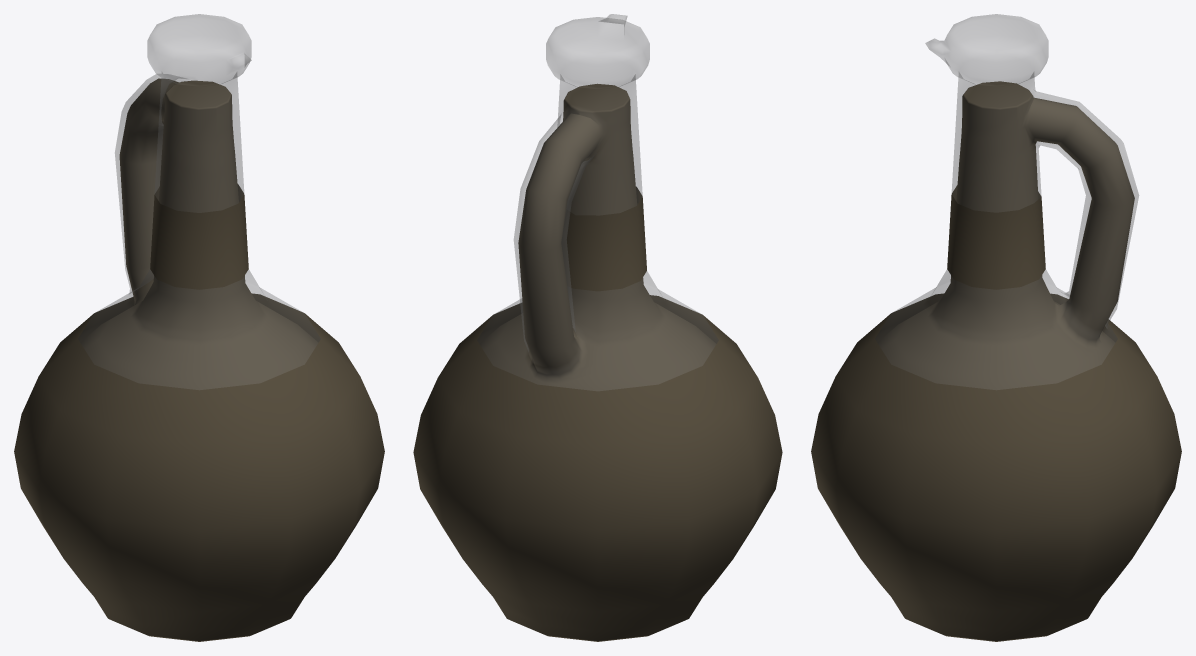
Rendered from Bottle5.fbx.
3 renders of one model, left to right at view 1: azimuth 30°, elevation 25°; view 2: azimuth 150°, elevation 25°; view 3: azimuth 270°, elevation 25°, orthographic.
Visible parts, largest first — view 1: Bottle5, Liquid; view 2: Bottle5, Liquid; view 3: Bottle5, Liquid.
Part boxes in pixels (box(x1,y1,x2,y2)): Bottle5: box(14, 14, 384, 641); Liquid: box(80, 78, 318, 390); Bottle5: box(413, 14, 782, 641); Liquid: box(479, 83, 716, 391); Bottle5: box(811, 14, 1181, 641); Liquid: box(877, 81, 1134, 390).
Bounding box in the file's own units: 0.0228 × 0.0384 × 0.0228.
